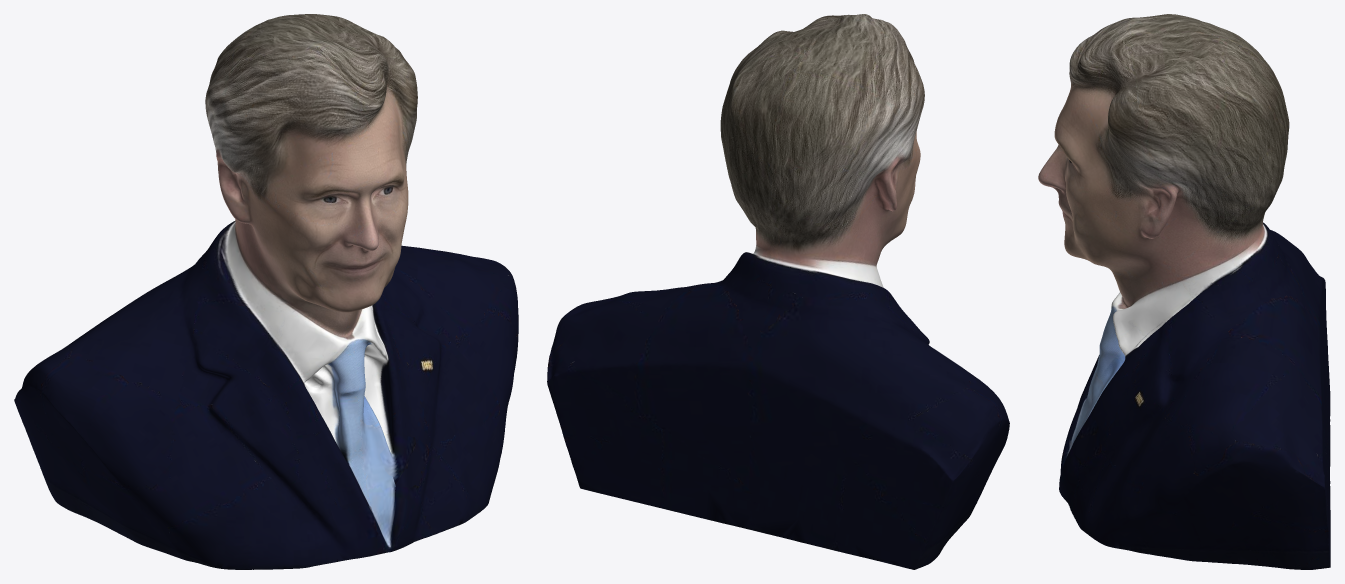
The model's file is christian_wulff.glb.
3 renders of one model, left to right at view 1: azimuth 30°, elevation 25°; view 2: azimuth 150°, elevation 25°; view 3: azimuth 270°, elevation 25°, orthographic. The views are drawn at different scales.
Bounding box in the file's own units: 1.9 × 1.88 × 1.1.
Materials: 1 (1 with a texture image).
